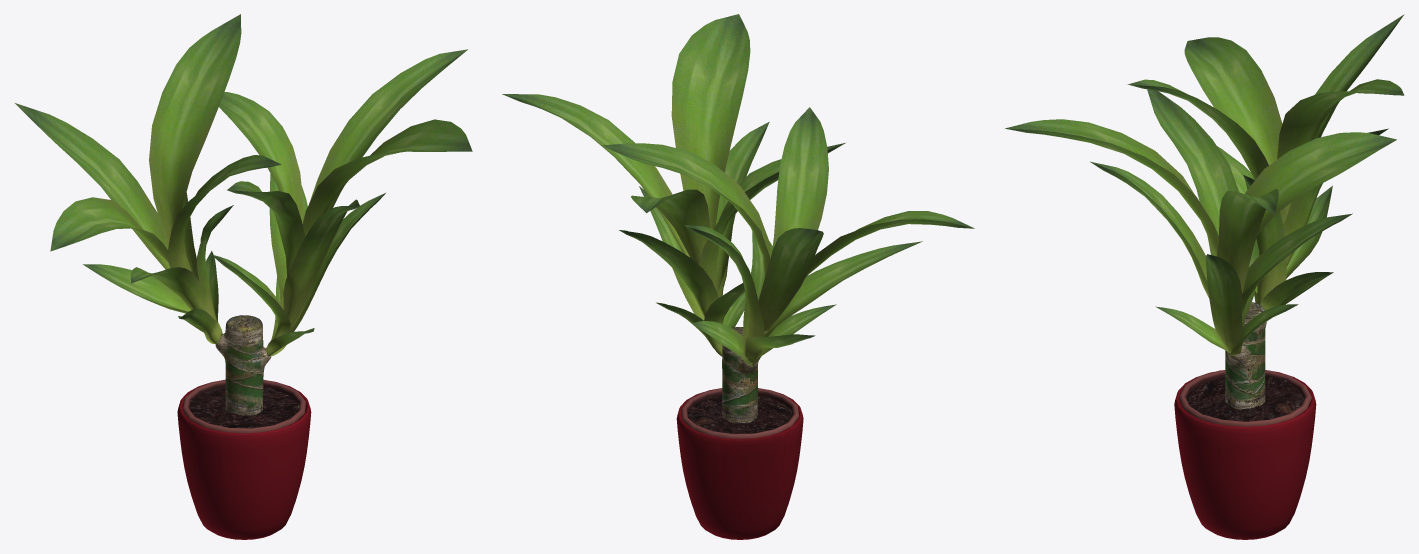
File: Plant.FBX
3 views of the same model, side by side, from view 1: azimuth 30°, elevation 25°; view 2: azimuth 150°, elevation 25°; view 3: azimuth 270°, elevation 25° (orthographic). The views are drawn at different scales.
Visible parts, largest first — view 1: indoor plant_02; view 2: indoor plant_02; view 3: indoor plant_02.
Part boxes in pixels (bbox=[...]): indoor plant_02: bbox=[15, 14, 472, 539]; indoor plant_02: bbox=[502, 14, 974, 539]; indoor plant_02: bbox=[1005, 14, 1404, 539].
Size of the model in its own units: 269 by 245 by 191.
1 material, 1 textured.
